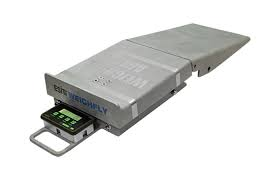Industrial Scale: (26, 22, 252, 158)
